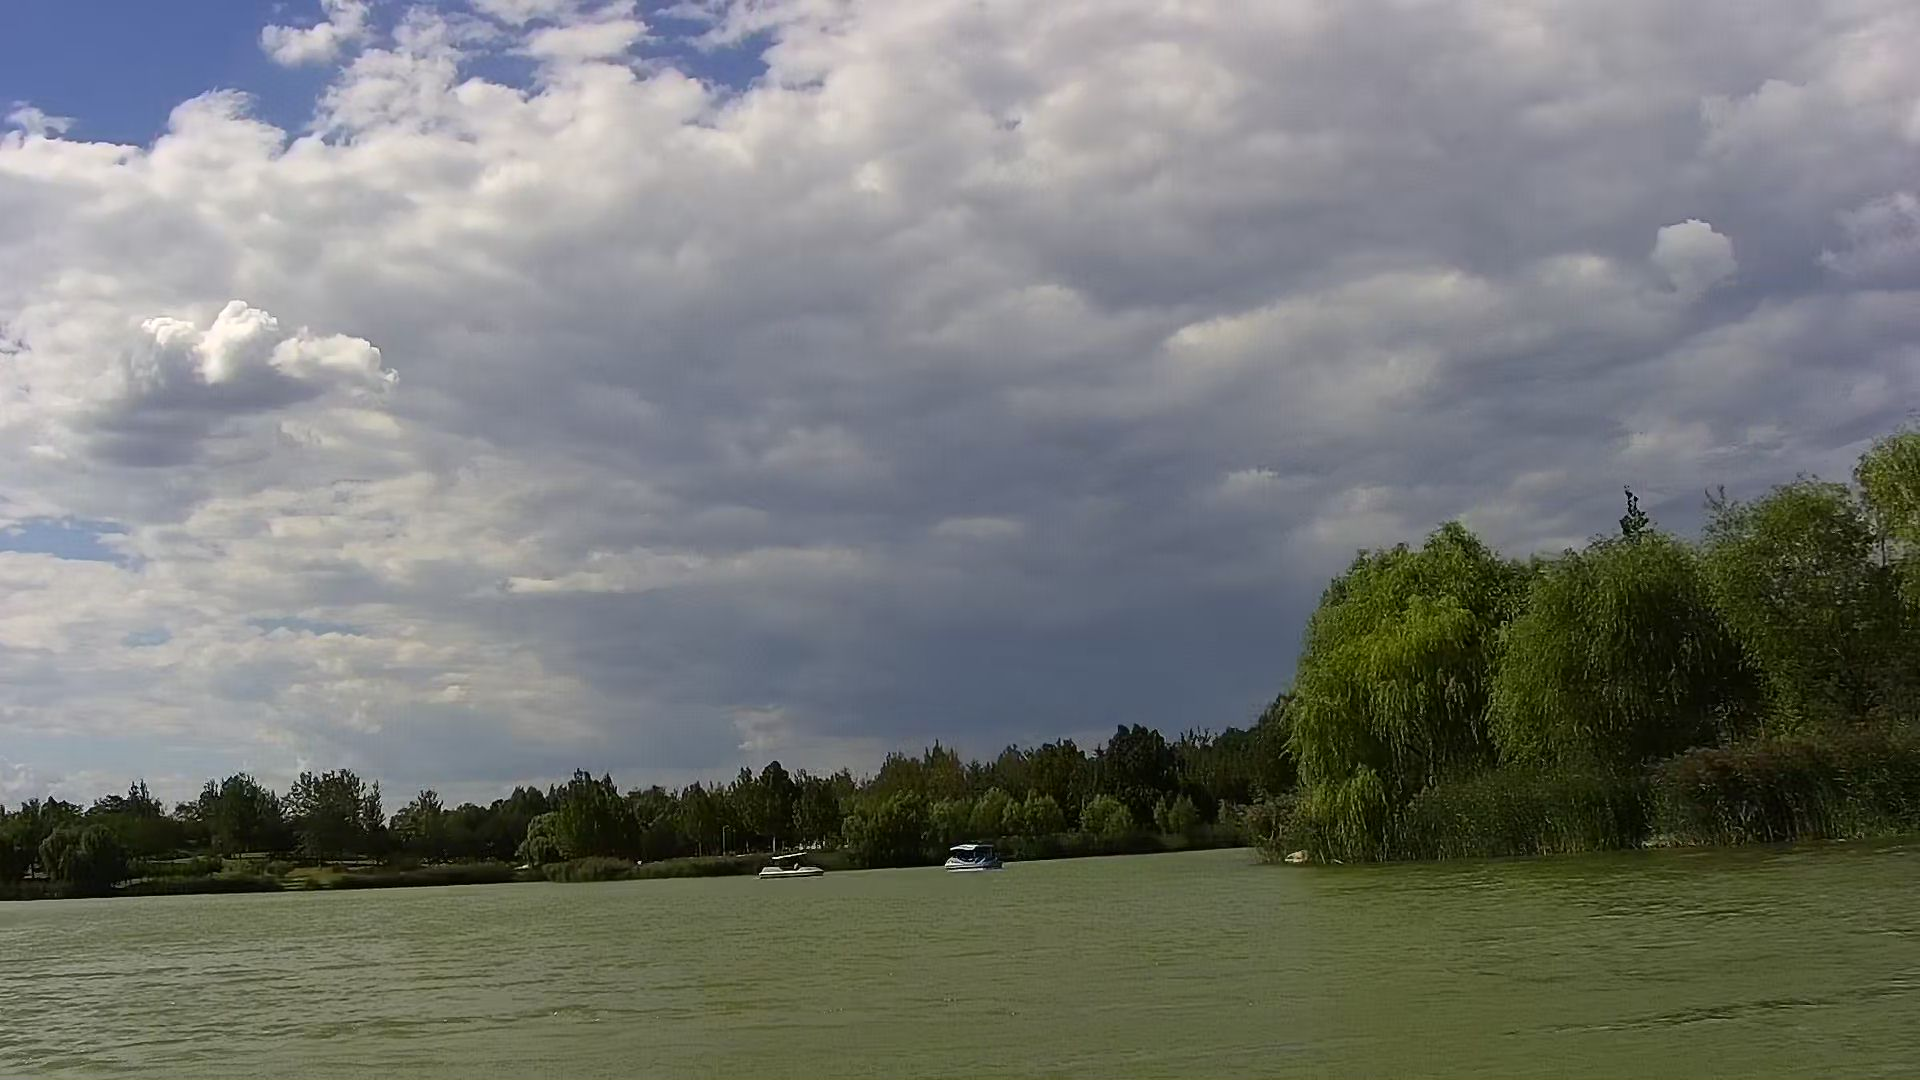boat: (762, 851, 825, 880), (943, 843, 1001, 873)
rock: (1284, 851, 1312, 864)
